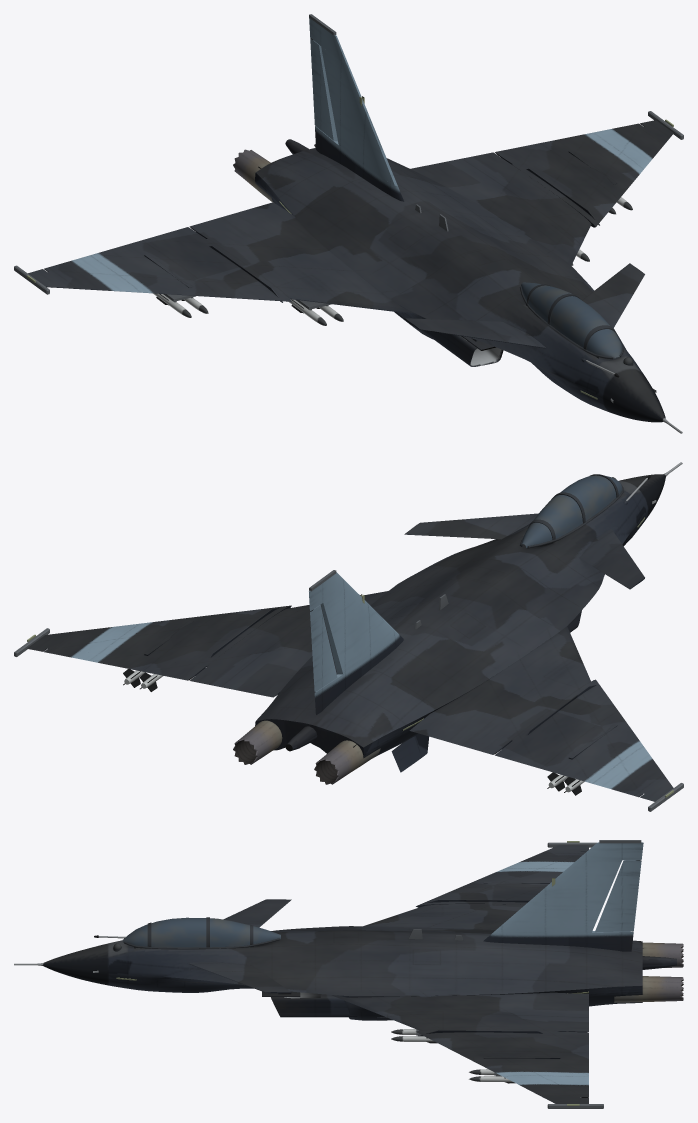
The model's file is vanta-v2-elite.fbx.
3 renders of one model, top to bottom at view 1: azimuth 30°, elevation 25°; view 2: azimuth 150°, elevation 25°; view 3: azimuth 270°, elevation 25°, orthographic. The views are drawn at different scales.
Visible parts, largest first — view 1: Body, Canopy, Elevator_L, Elevator_R, Aileron_L, Aileron_R, Rudder; view 2: Body, Canopy, Elevator_R, Elevator_L, Aileron_L, Aileron_R, Rudder; view 3: Body, Canopy, Rudder, Elevator_R, Aileron_R, Elevator_L.
Part boxes in pixels (x1,y1,x2,y2): Body: [14, 14, 683, 433]; Canopy: [521, 282, 622, 358]; Elevator_L: [404, 318, 545, 348]; Elevator_R: [582, 263, 644, 328]; Aileron_L: [44, 227, 205, 271]; Aileron_R: [495, 123, 642, 164]; Rudder: [310, 38, 337, 141]; Body: [14, 462, 683, 811]; Canopy: [521, 475, 622, 547]; Elevator_R: [404, 513, 538, 539]; Elevator_L: [579, 529, 644, 589]; Aileron_L: [495, 741, 643, 797]; Aileron_R: [44, 648, 205, 680]; Rudder: [310, 605, 337, 691]; Body: [14, 840, 683, 1108]; Canopy: [122, 917, 280, 947]; Rudder: [595, 860, 641, 932]; Elevator_R: [188, 962, 291, 993]; Aileron_R: [558, 1031, 588, 1097]; Elevator_L: [223, 899, 291, 927].
Bounding box in the file's own units: 24.58 × 7.3 × 26.4.
Materials: 1 (1 with a texture image).
